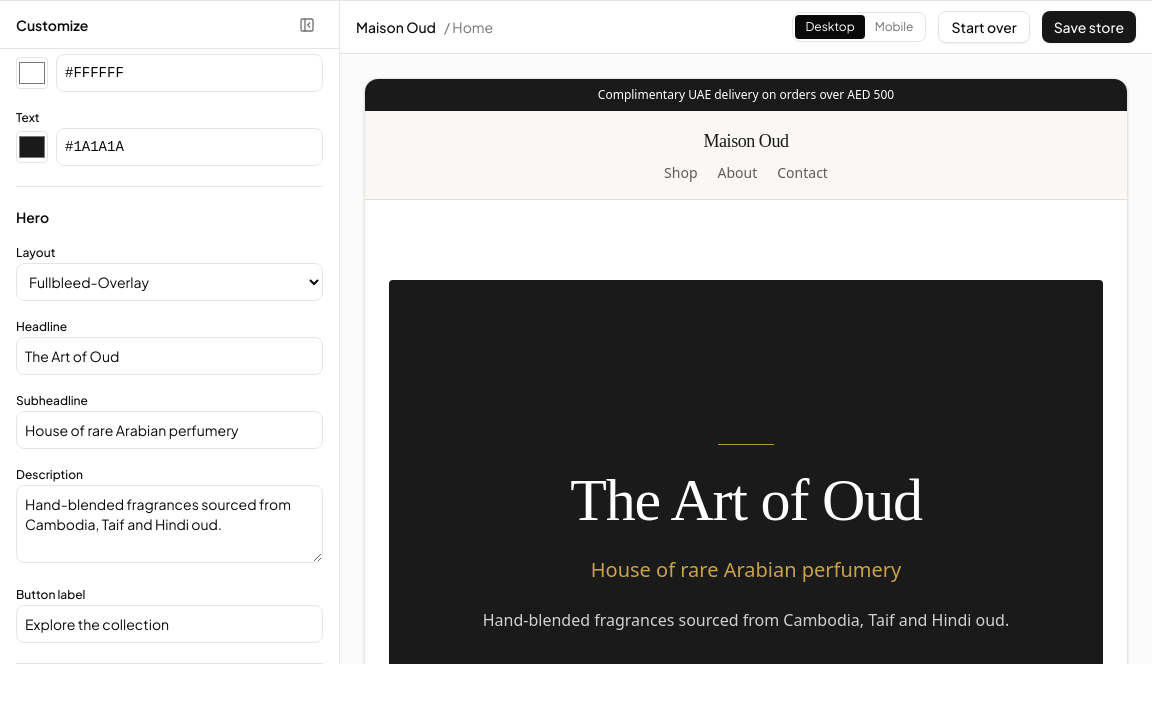
Scenario: StoreEditor (editor ↔ live preview) › editing the hero headline updates the preview and the dirty badge
(page scrolled)
Check: the text "Unsaved changes" is not shown
Replace the text in the field labelled "Headline" with "Rare Arabian Oud" at (170, 356), box 16,337 -> 323,375
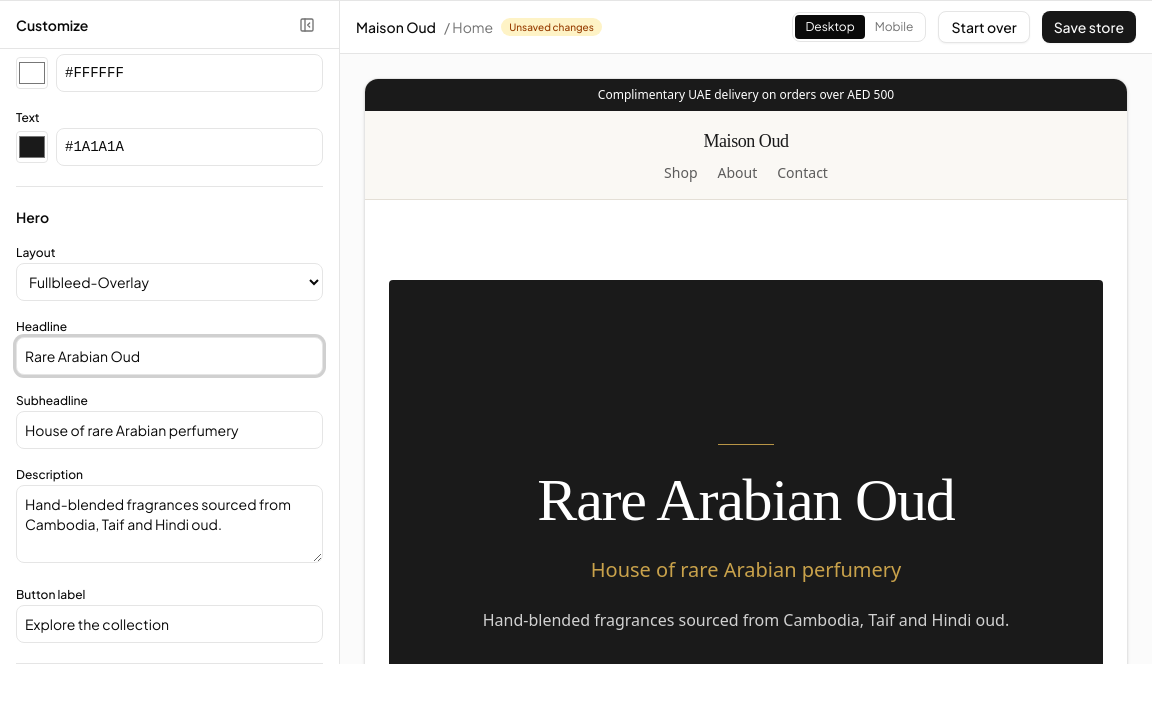
Check: the heading "Rare Arabian Oud" is shown, box 537,469 -> 955,532
Check: the text "Unsaved changes" is shown, box 501,18 -> 602,36
